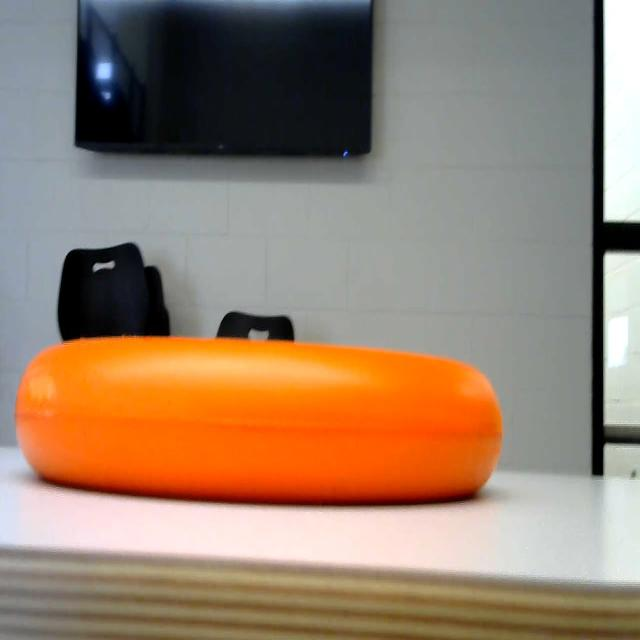note: (11, 327, 510, 522)
